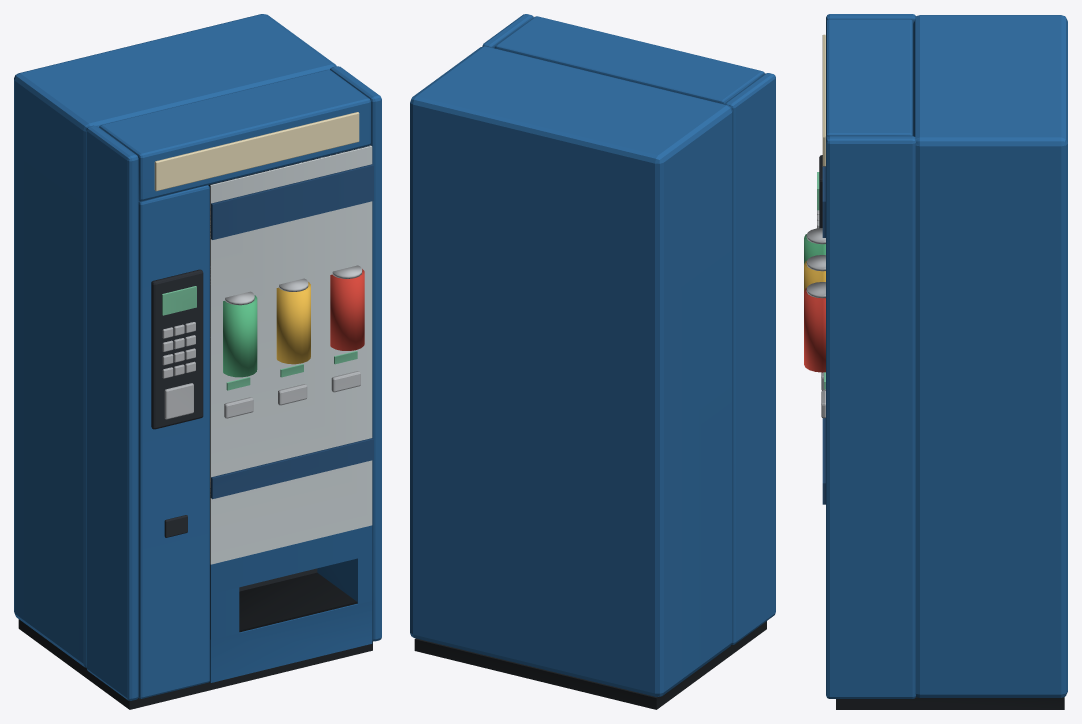
File: vendingDrink.glb
3 views of the same model, side by side, from view 1: azimuth 30°, elevation 25°; view 2: azimuth 150°, elevation 25°; view 3: azimuth 270°, elevation 25° (orthographic). The views are drawn at different scales.
Parts seen in each view (by area): view 1: body; view 2: body; view 3: body.
Boxes of the visible parts, x1=… form: body: x1=14, y1=14, x2=381, y2=709; body: x1=410, y1=14, x2=775, y2=709; body: x1=804, y1=14, x2=1067, y2=709.
Bounding box in the file's own units: 0.9 × 1.88 × 0.785.
